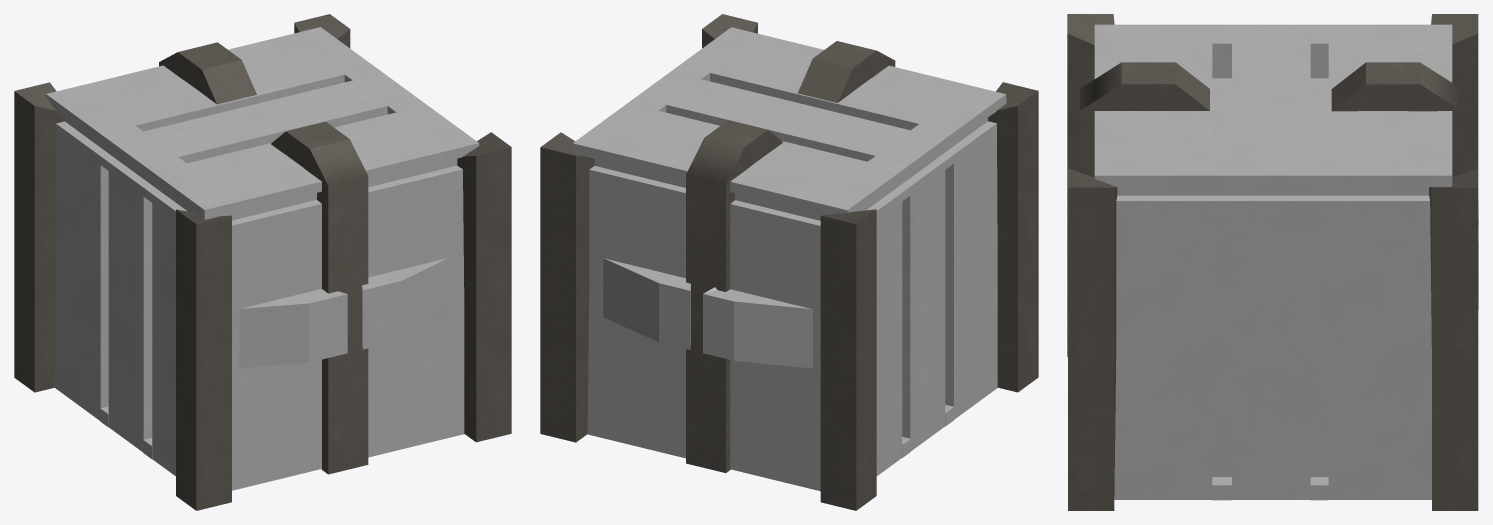
3 renders of one model, left to right at view 1: azimuth 30°, elevation 25°; view 2: azimuth 150°, elevation 25°; view 3: azimuth 270°, elevation 25°, orthographic. The views are drawn at different scales.
Visible parts, largest first — view 1: Body, pCube7, pCube8, pCube4, pCube6, pCube9, pCube5; view 2: Body, pCube6, pCube5, pCube9, pCube7, pCube8, pCube4; view 3: Body, pCube4, pCube5, pCube8, pCube9, pCube6, pCube7.
Part boxes in pixels (box(x1,y1,x2,y2)): Body: box(46, 27, 479, 490); pCube7: box(176, 209, 231, 510); pCube8: box(271, 121, 368, 474); pCube4: box(457, 132, 511, 442); pCube6: box(14, 82, 64, 392); pCube9: box(159, 42, 256, 104); pCube5: box(294, 14, 350, 48); Body: box(572, 27, 1006, 491); pCube6: box(820, 209, 876, 510); pCube5: box(540, 132, 594, 442); pCube9: box(686, 120, 782, 472); pCube7: box(988, 82, 1038, 392); pCube8: box(798, 41, 895, 102); pCube4: box(702, 14, 757, 48); Body: box(1094, 24, 1478, 500); pCube4: box(1068, 168, 1117, 510); pCube5: box(1429, 168, 1478, 510); pCube8: box(1080, 62, 1209, 177); pCube9: box(1331, 62, 1461, 177); pCube6: box(1431, 14, 1478, 173); pCube7: box(1067, 14, 1114, 356).
Size of the model in its own units: 399 by 377 by 399.
3 materials, 3 textured.
